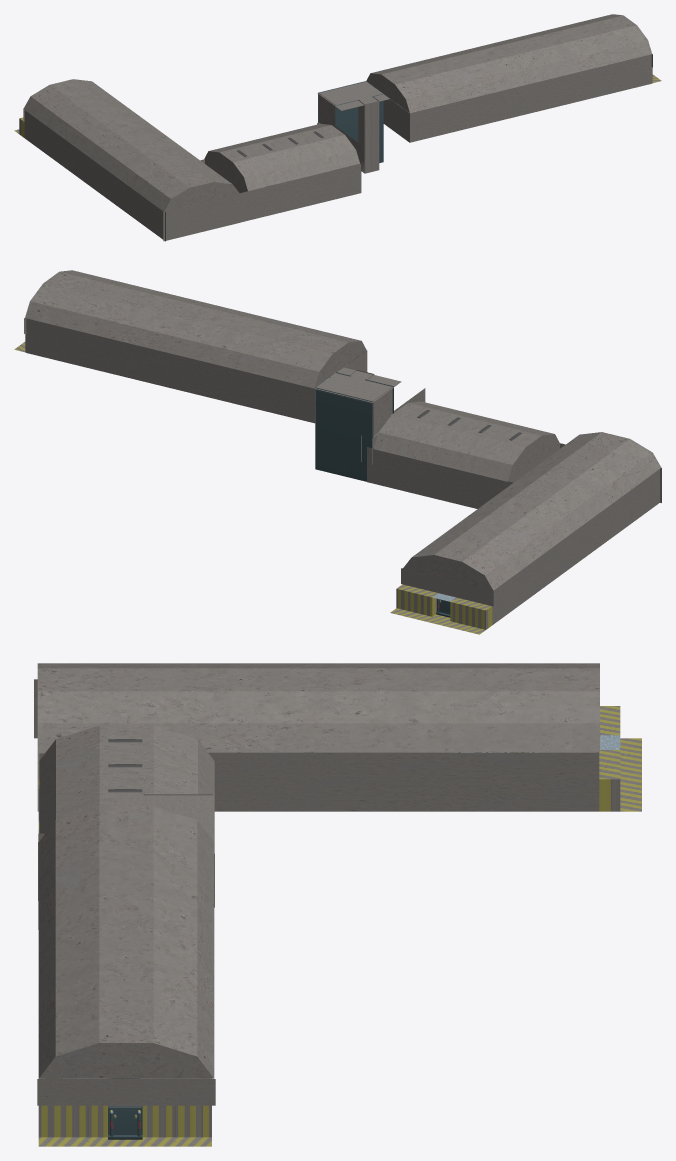
Rendered from TunnelLevelExport.fbx.
3 renders of one model, top to bottom at view 1: azimuth 30°, elevation 25°; view 2: azimuth 150°, elevation 25°; view 3: azimuth 270°, elevation 25°, orthographic. The views are drawn at different scales.
Parts seen in each view (by area): view 1: Ground; view 2: Ground; view 3: Ground, BlastDoor2.
Part boxes in pixels (box(x1,y1,x2,y2)): Ground: box(14, 14, 661, 241); Ground: box(14, 270, 661, 634); Ground: box(34, 663, 641, 1146); BlastDoor2: box(108, 1105, 142, 1139).
Bounding box in the file's own units: 333 × 54.97 × 176.
